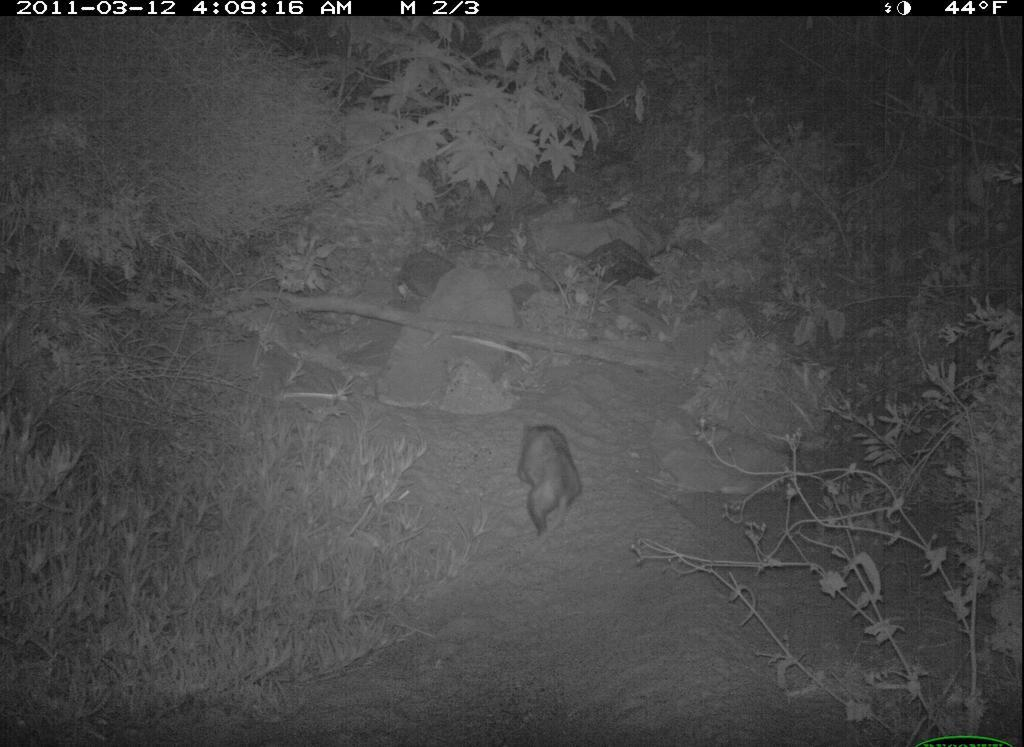opossum: (510, 414, 593, 556)
